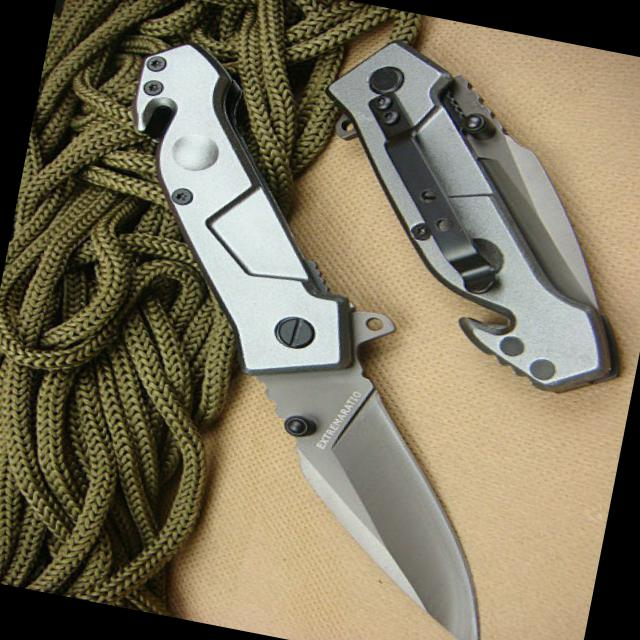knife: (200, 337, 540, 639)
